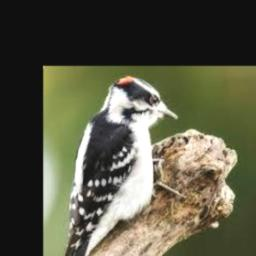Woodpecker: (48, 75, 188, 256)
